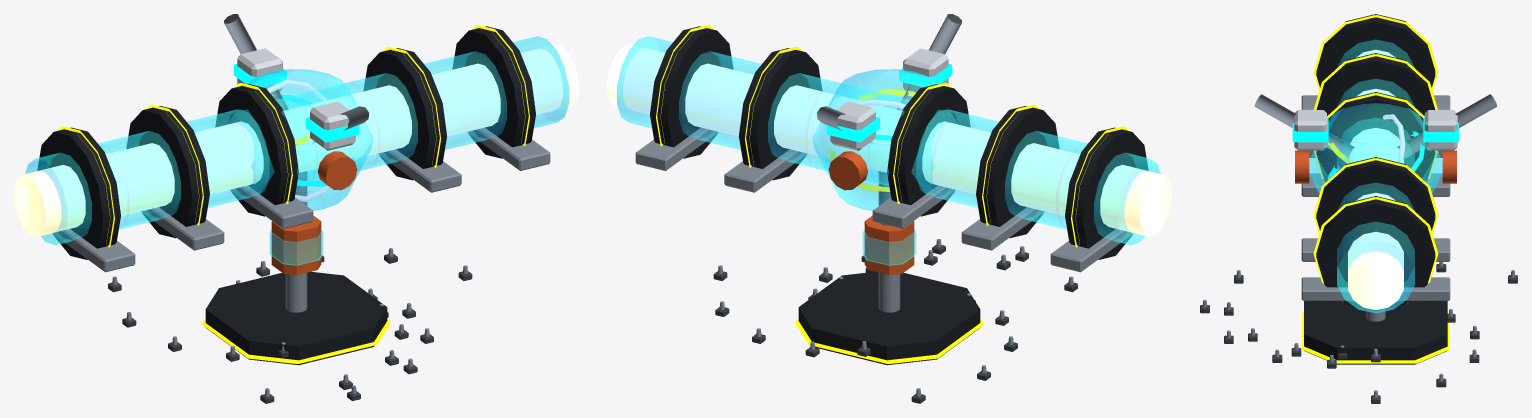
Rendered from interior_setpiece_03_r1_01.glb.
3 views of the same model, side by side, from view 1: azimuth 30°, elevation 25°; view 2: azimuth 150°, elevation 25°; view 3: azimuth 270°, elevation 25° (orthographic). The views are drawn at different scales.
Visible parts, largest first — view 1: Setpiece03_C01_gunmetal, Setpiece03_C01_glass_cyan, Setpiece03_C01_sky_golden_core, Setpiece03_C01_steel_machined, Setpiece03_C01_accent_orange, Setpiece03_C01_led_amber, Setpiece03_C01_aero_white, Setpiece03_C01_cliff_basalt, Setpiece03_C01_led_cyan, Setpiece03_C01_led_uv; view 2: Setpiece03_C01_gunmetal, Setpiece03_C01_glass_cyan, Setpiece03_C01_sky_golden_core, Setpiece03_C01_steel_machined, Setpiece03_C01_accent_orange, Setpiece03_C01_led_amber, Setpiece03_C01_aero_white, Setpiece03_C01_cliff_basalt, Setpiece03_C01_led_cyan; view 3: Setpiece03_C01_gunmetal, Setpiece03_C01_glass_cyan, Setpiece03_C01_steel_machined, Setpiece03_C01_sky_golden_core, Setpiece03_C01_led_amber, Setpiece03_C01_aero_white, Setpiece03_C01_cliff_basalt, Setpiece03_C01_led_cyan, Setpiece03_C01_accent_orange, Setpiece03_C01_led_uv.
Part boxes in pixels (x1,y1,x2,y2): Setpiece03_C01_gunmetal: [37, 26, 535, 365]; Setpiece03_C01_glass_cyan: [25, 36, 568, 265]; Setpiece03_C01_sky_golden_core: [14, 44, 578, 236]; Setpiece03_C01_steel_machined: [52, 14, 550, 396]; Setpiece03_C01_accent_orange: [271, 151, 357, 275]; Setpiece03_C01_led_amber: [57, 25, 529, 363]; Setpiece03_C01_aero_white: [237, 48, 355, 150]; Setpiece03_C01_cliff_basalt: [108, 254, 472, 403]; Setpiece03_C01_led_cyan: [233, 64, 359, 186]; Setpiece03_C01_led_uv: [267, 79, 328, 201]; Setpiece03_C01_gunmetal: [650, 26, 1148, 365]; Setpiece03_C01_glass_cyan: [617, 36, 1160, 265]; Setpiece03_C01_sky_golden_core: [607, 44, 1171, 236]; Setpiece03_C01_steel_machined: [635, 14, 1133, 396]; Setpiece03_C01_accent_orange: [828, 151, 914, 275]; Setpiece03_C01_led_amber: [656, 25, 1128, 363]; Setpiece03_C01_aero_white: [830, 48, 948, 150]; Setpiece03_C01_cliff_basalt: [713, 245, 1077, 403]; Setpiece03_C01_led_cyan: [826, 64, 952, 142]; Setpiece03_C01_gunmetal: [1304, 14, 1447, 364]; Setpiece03_C01_glass_cyan: [1309, 39, 1442, 313]; Setpiece03_C01_steel_machined: [1202, 94, 1515, 397]; Setpiece03_C01_sky_golden_core: [1348, 50, 1403, 309]; Setpiece03_C01_led_amber: [1302, 15, 1449, 363]; Setpiece03_C01_aero_white: [1294, 110, 1457, 150]; Setpiece03_C01_cliff_basalt: [1200, 264, 1517, 403]; Setpiece03_C01_led_cyan: [1292, 118, 1458, 179]; Setpiece03_C01_accent_orange: [1295, 150, 1456, 183]; Setpiece03_C01_led_uv: [1382, 114, 1405, 163].
Size of the model in its own units: 54 by 25.79 by 30.99.
Materials: 10 (10 with a texture image).
